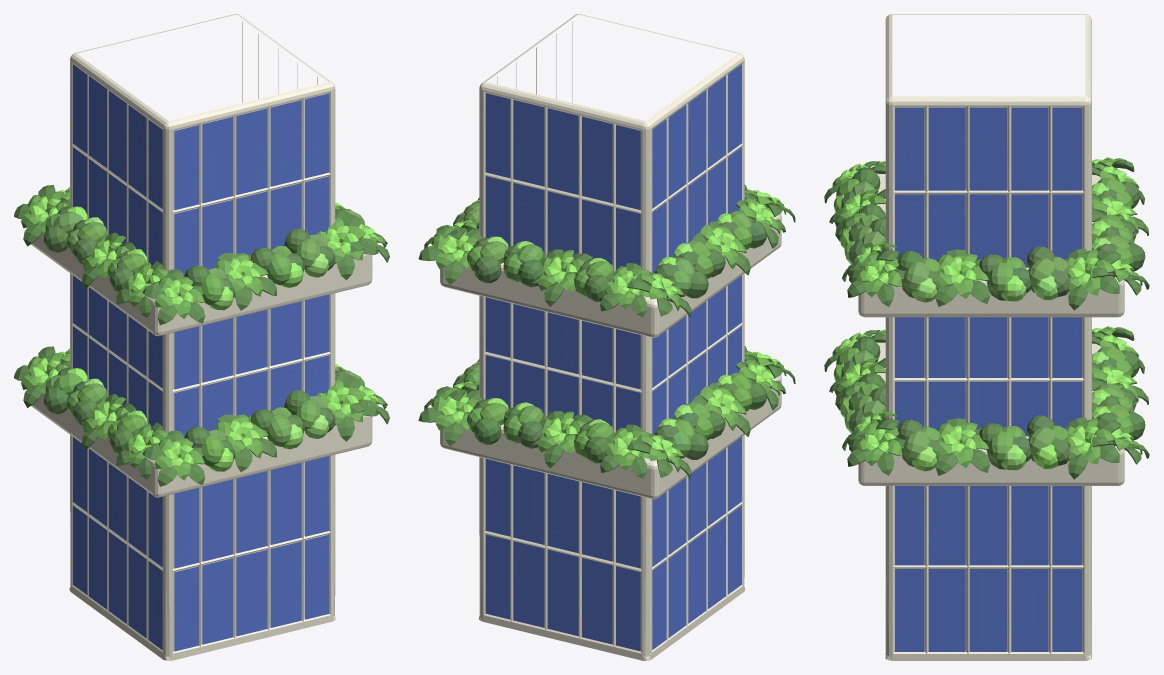
The model's file is building_tour_Draco.glb.
3 views of the same model, side by side, from view 1: azimuth 30°, elevation 25°; view 2: azimuth 150°, elevation 25°; view 3: azimuth 270°, elevation 25° (orthographic). The views are drawn at different scales.
Parts seen in each view (by area): view 1: building1_opti; view 2: building1_opti; view 3: building1_opti.
Boxes of the visible parts, x1=… form: building1_opti: x1=14, y1=14, x2=389, y2=660; building1_opti: x1=418, y1=14, x2=795, y2=660; building1_opti: x1=824, y1=14, x2=1149, y2=660.
Size of the model in its own units: 7.69 by 15 by 7.87.
1 material, 1 textured.
